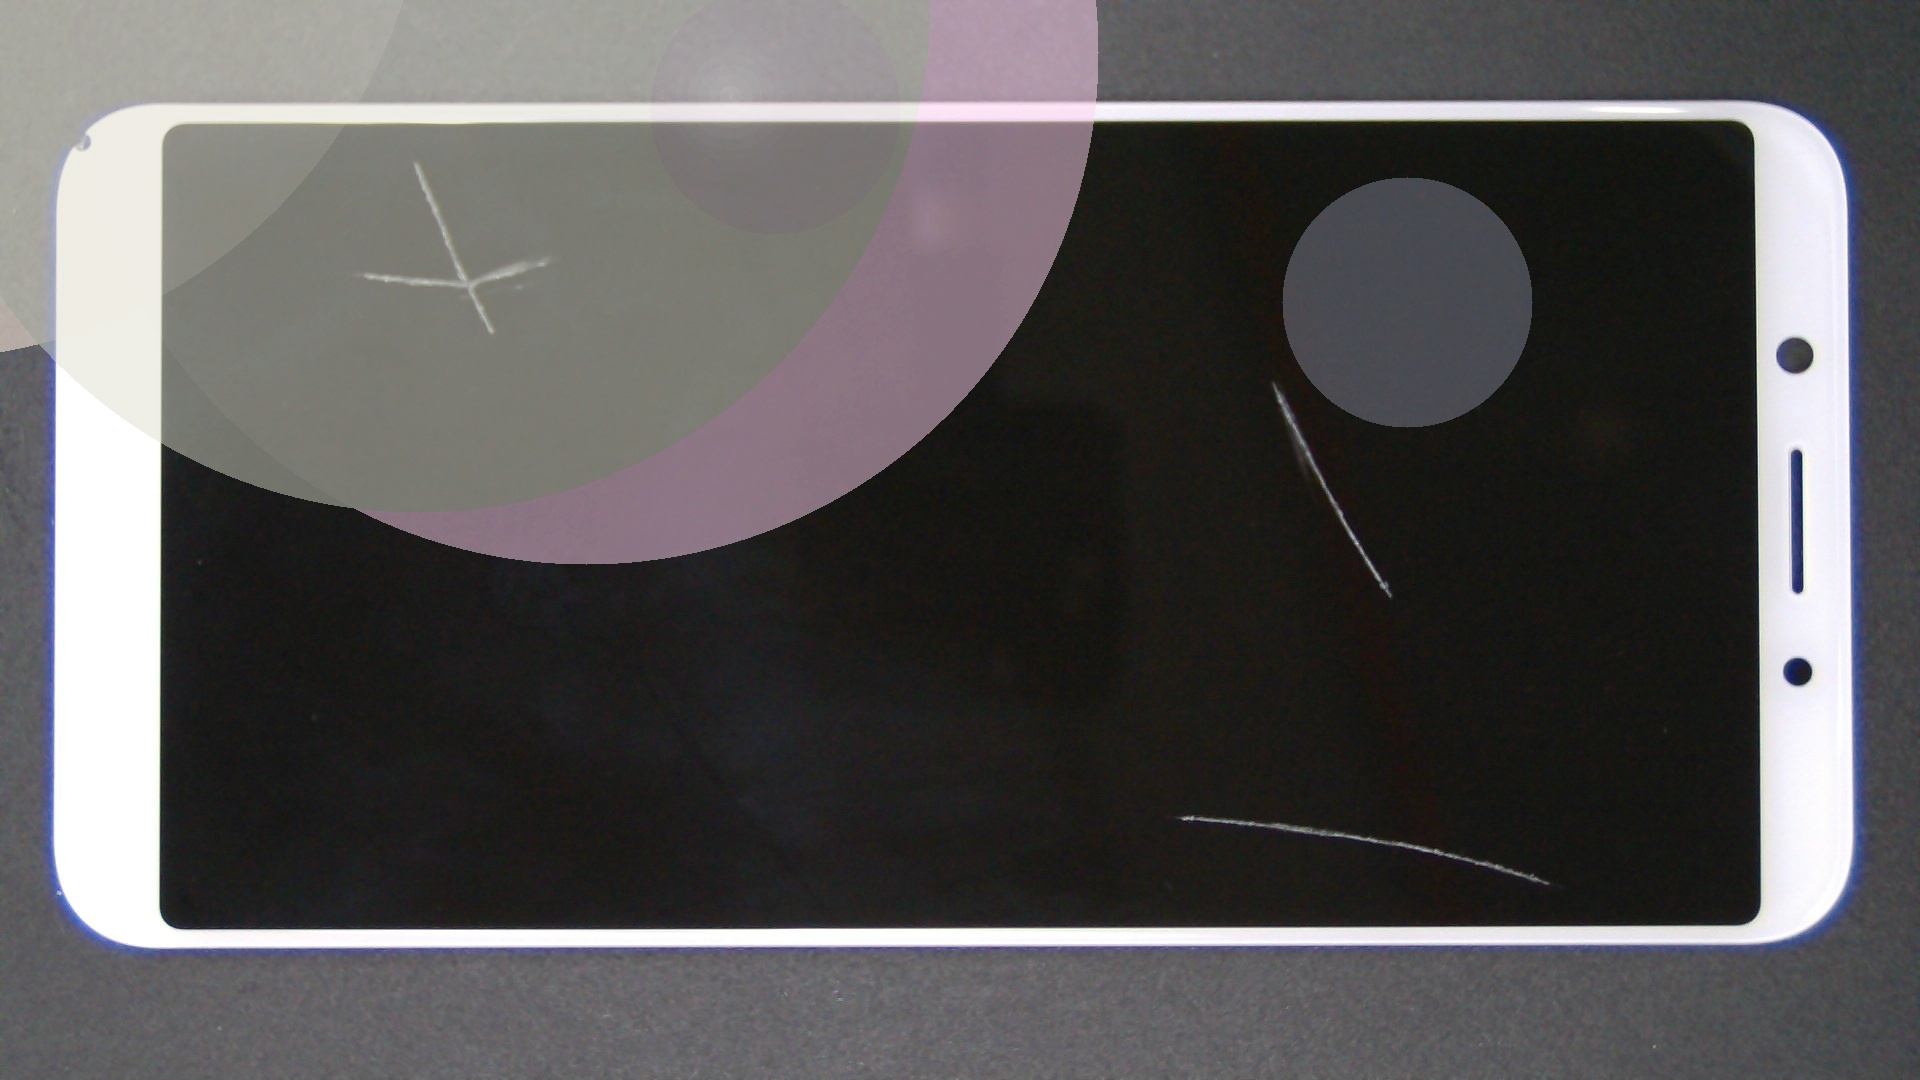oil: (595, 406, 1783, 1080), (637, 189, 1908, 571), (207, 76, 620, 244)
